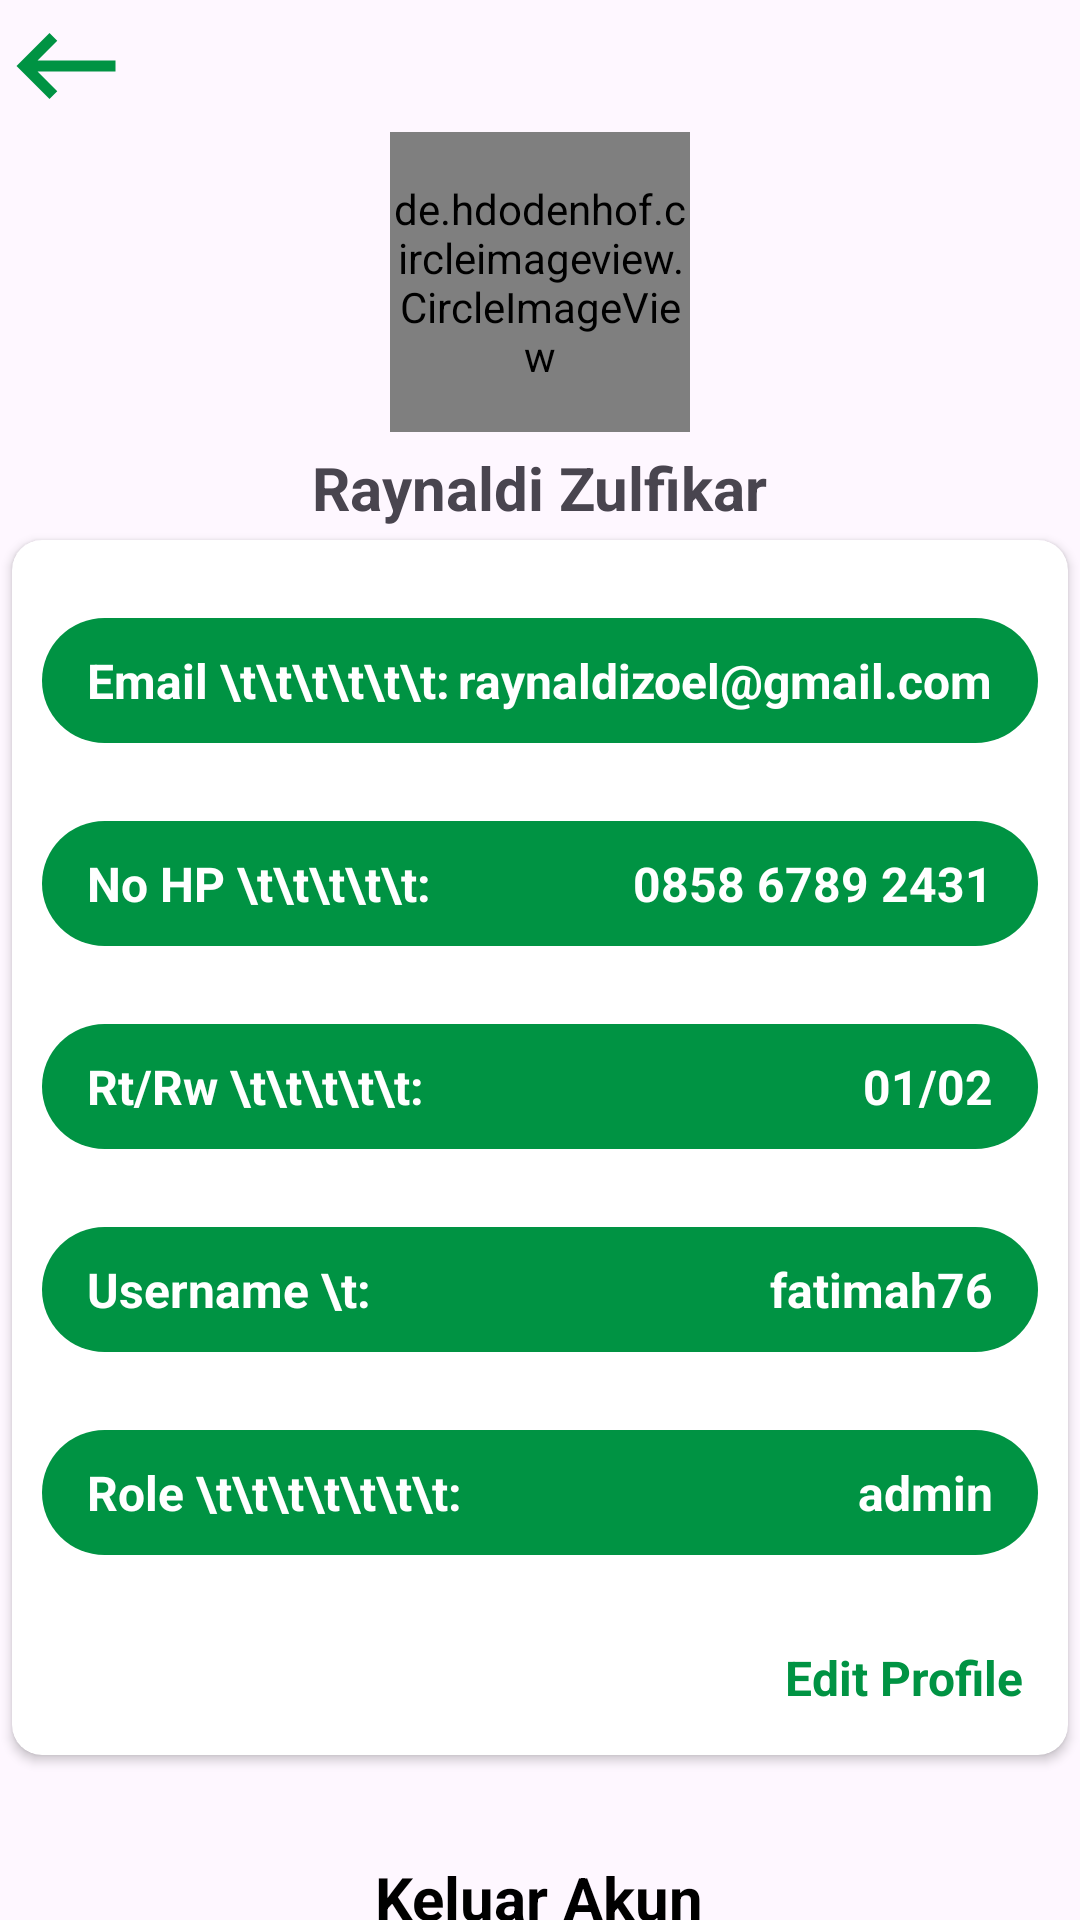

Where to tap for icons on this 1080px x 1920px app screen, as (x,y):
keyboard backspace: (66,66)
